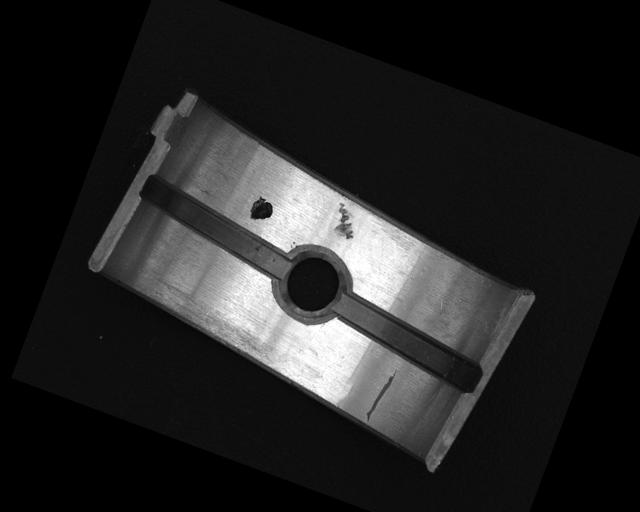blot: (247, 193, 277, 225)
bruise: (327, 200, 363, 241)
gap: (129, 173, 301, 282), (321, 289, 489, 395)
hole: (265, 238, 359, 332)
nick: (363, 364, 398, 426)
scratch: (135, 275, 294, 372)
